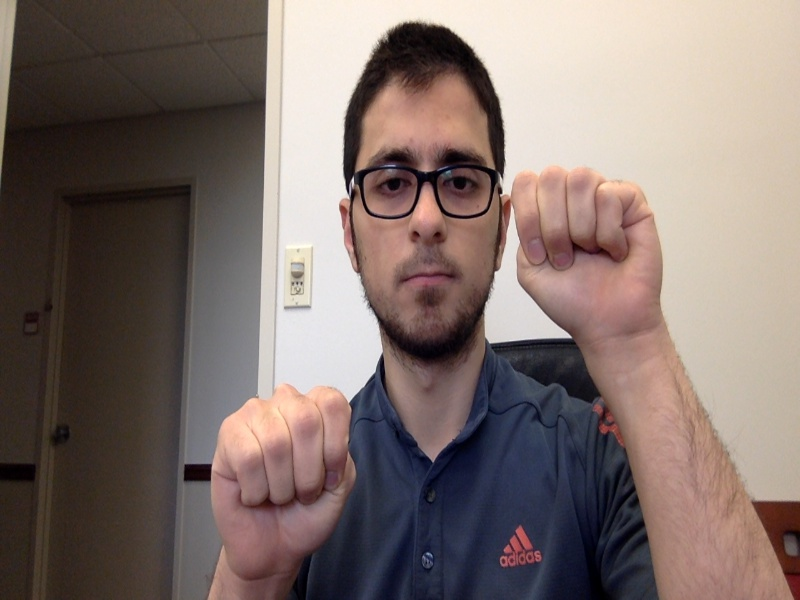0-hand: (513, 168, 662, 343), (213, 386, 354, 569)
